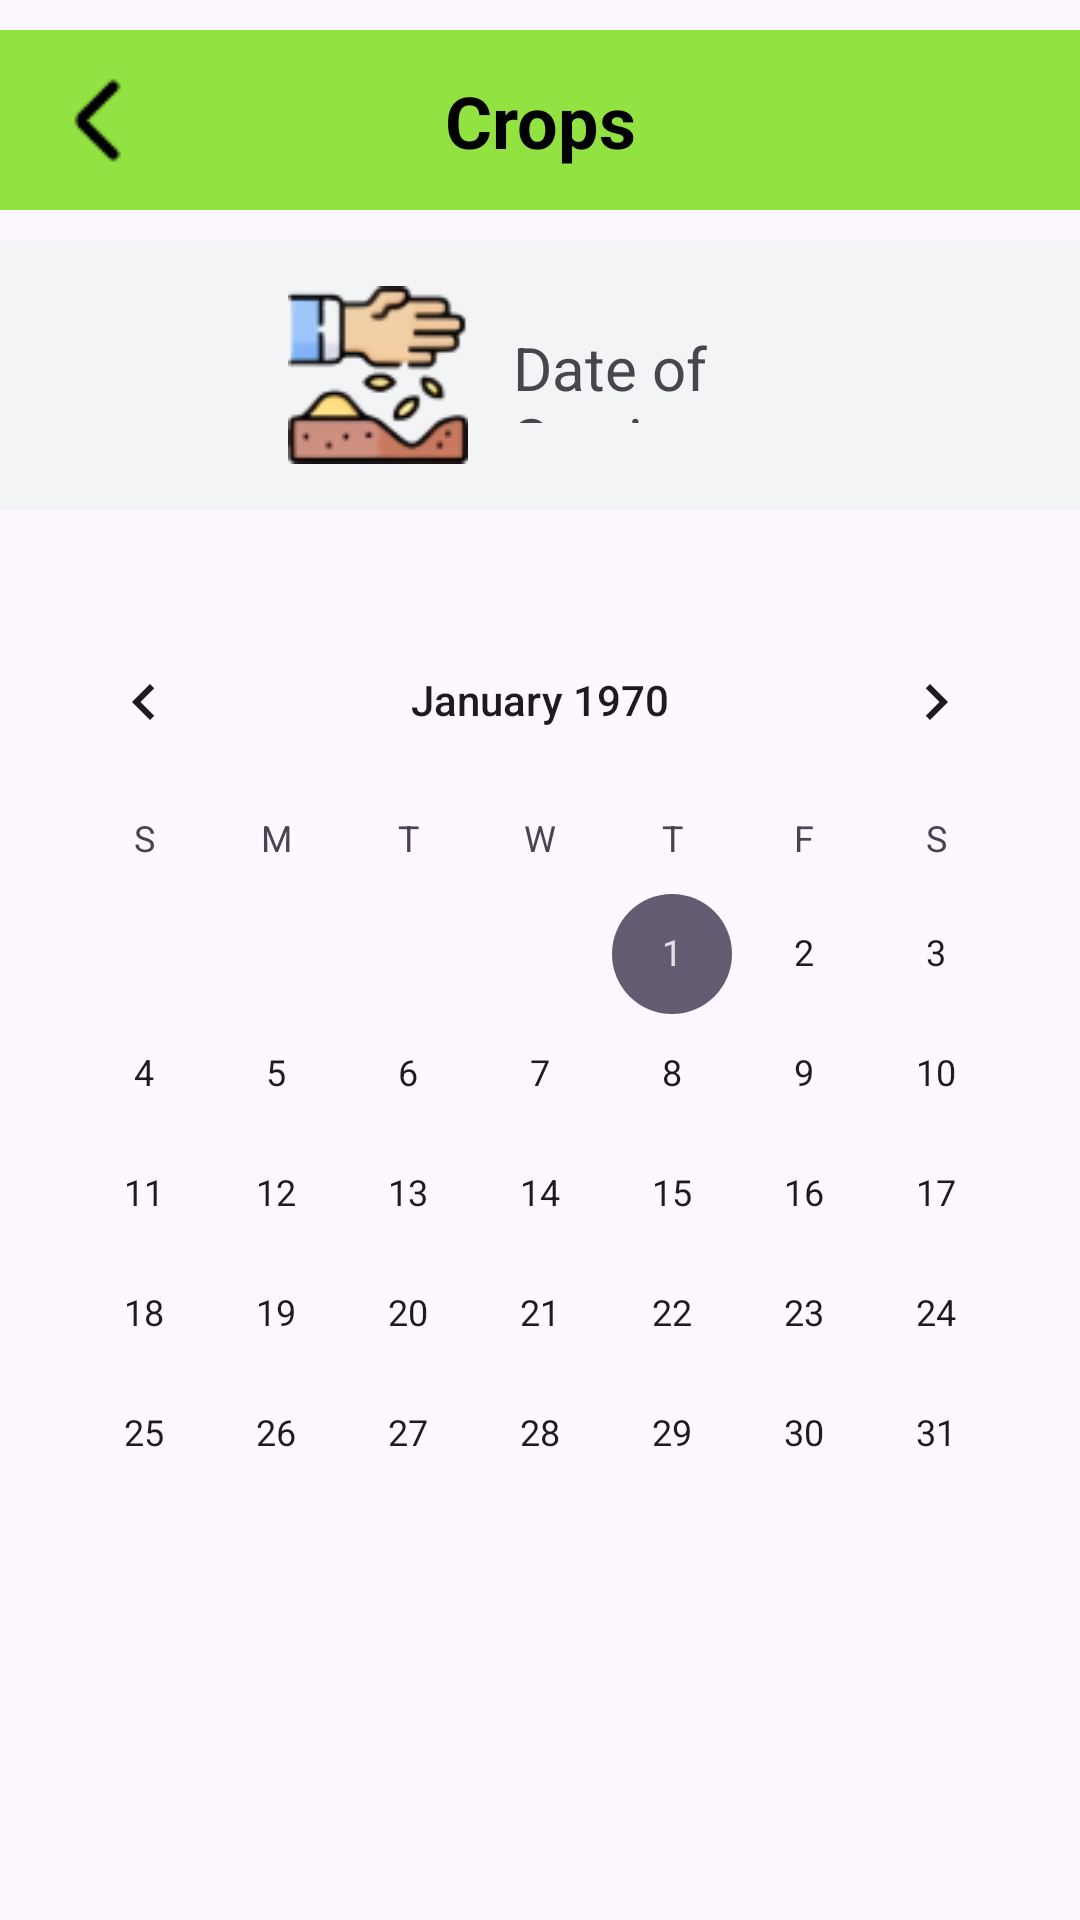

Where icons sit on this 1080 × 1920 app screen, as (x1, y1, x2, y2):
back arrow: (74, 79, 121, 162)
